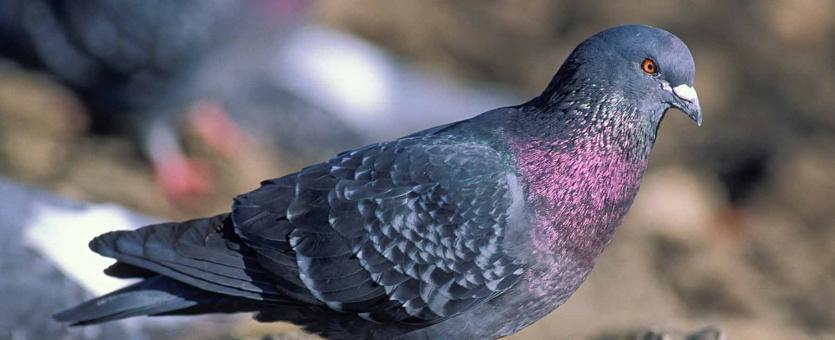Flying Rat: (104, 25, 703, 340)
